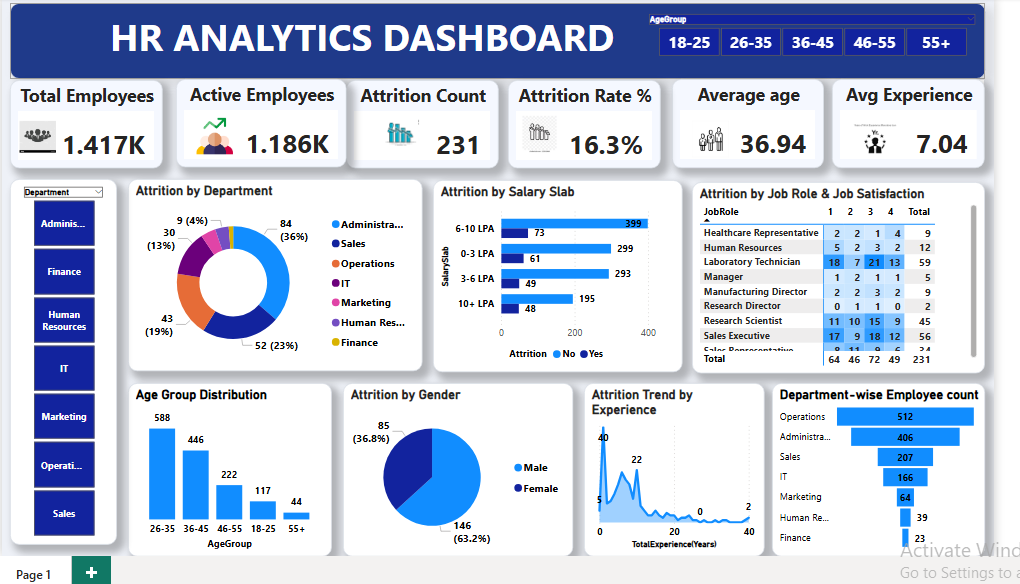

What the dashboard file says about the page in this screenshot:
{"tool":"powerbi","page":{"name":"Page 1","canvas":[1280,720],"ordinal":0},"visuals":[{"type":"textbox","box":[9.9,7.1,1258.6,97.8],"z":0},{"type":"cardVisual","title":"Total Employees","fields":{"Data":["CountNonNull(HR_Analytics-4 (1).EmployeeCount)"]},"box":[10.7,105.5,196.6,114.4],"z":1000},{"type":"cardVisual","title":"Attrition Count","fields":{"Data":["Sum(HR_Analytics-4 (1).Attrition Count)"]},"box":[443.4,105.5,196.6,114.4],"z":2000},{"type":"cardVisual","title":"Average age","fields":{"Data":["Avg(HR_Analytics-4 (1).Age)"]},"box":[864.6,104.9,195.6,114.8],"z":3000},{"type":"cardVisual","title":"Active Employees","fields":{"Data":["CountNonNull(HR_Analytics-4 (1).Attrition)"]},"box":[224.2,105.1,219.6,114.5],"z":4000},{"type":"cardVisual","title":"Avg Experience","fields":{"Data":["Avg(HR_Analytics-4 (1).YearsatCompany)"]},"box":[1071.5,104.9,197,114.8],"z":5000},{"type":"cardVisual","title":"Attrition Rate %","fields":{"Data":["HR_Analytics-4 (1).Attrition Rate%"]},"box":[652.5,105.5,196.6,114.4],"z":6000},{"type":"image","box":[11.3,153.1,69.4,51],"z":7000},{"type":"image","box":[239.5,150.2,69.4,56.7],"z":8000},{"type":"image","box":[476.2,150.2,79.4,56.7],"z":9000},{"type":"image","box":[652,147.4,83.6,56.7],"z":10000},{"type":"image","box":[880.2,153.1,69.4,56.7],"z":11000},{"type":"image","box":[1082.8,153.1,87.9,58.1],"z":12000},{"type":"donutChart","title":"Attrition by Department","fields":{"Category":["HR_Analytics-4 (1).Department"],"Y":["Sum(HR_Analytics-4 (1).Attrition Count)"]},"box":[162.7,234,379.6,248.3],"z":13000},{"type":"clusteredBarChart","title":"Attrition by Salary Slab","fields":{"Y":["CountNonNull(HR_Analytics-4 (1).EmpID)"],"Category":["HR_Analytics-4 (1).SalarySlab"],"Series":["HR_Analytics-4 (1).Attrition"]},"box":[556.5,235.5,322.5,248.3],"z":14000},{"type":"pivotTable","title":"Attrition by Job Role & Job Satisfaction","fields":{"Rows":["HR_Analytics-4 (1).JobRole"],"Values":["Sum(HR_Analytics-4 (1).Attrition Count)"],"Columns":["HR_Analytics-4 (1).JobSatisfaction"]},"box":[890.4,236.9,378.1,246.9],"z":15000},{"type":"columnChart","title":"Age Group Distribution","fields":{"Y":["Sum(HR_Analytics-4 (1).EmployeeCount)"],"Category":["HR_Analytics-4 (1).AgeGroup"]},"box":[162.7,496.6,262.6,224],"z":16000},{"type":"pieChart","title":"Attrition by Gender","fields":{"Category":["HR_Analytics-4 (1).Gender"],"Y":["Sum(HR_Analytics-4 (1).Attrition Count)"]},"box":[439.5,496.6,296.8,224],"z":17000},{"type":"areaChart","title":"Attrition Trend by Experience","fields":{"Category":["HR_Analytics-4 (1).TotalExperience(Years)"],"Y":["Sum(HR_Analytics-4 (1).Attrition Count)"]},"box":[750.6,496.6,232.6,224],"z":18000},{"type":"funnel","title":"Department-wise Employee count","fields":{"Y":["CountNonNull(HR_Analytics-4 (1).EmpID)"],"Category":["HR_Analytics-4 (1).Department"]},"box":[993.2,496.6,275.4,224],"z":19000},{"type":"slicer","title":"Department","fields":{"Values":["HR_Analytics-4 (1).Department"]},"box":[10.7,234.2,137.7,472],"z":20000},{"type":"slicer","title":"AgeGroup","fields":{"Values":["HR_Analytics-4 (1).AgeGroup"]},"box":[821.9,15.7,446.6,62.8],"z":21000}]}

Visuals, with their boxes on the page's 1280x720 design canvas (x1, y1, x2, y2). These are canvas units, not pixel positions in the 1020x584 screenshot, which may show the page scaled, cropped or inside an application window:
textbox: x1=10 y1=7 x2=1268 y2=105
"Total Employees" cardVisual: x1=11 y1=106 x2=207 y2=220
"Attrition Count" cardVisual: x1=443 y1=106 x2=640 y2=220
"Average age" cardVisual: x1=865 y1=105 x2=1060 y2=220
"Active Employees" cardVisual: x1=224 y1=105 x2=444 y2=220
"Avg Experience" cardVisual: x1=1072 y1=105 x2=1268 y2=220
"Attrition Rate %" cardVisual: x1=652 y1=106 x2=849 y2=220
image: x1=11 y1=153 x2=81 y2=204
image: x1=240 y1=150 x2=309 y2=207
image: x1=476 y1=150 x2=556 y2=207
image: x1=652 y1=147 x2=736 y2=204
image: x1=880 y1=153 x2=950 y2=210
image: x1=1083 y1=153 x2=1171 y2=211
"Attrition by Department" donutChart: x1=163 y1=234 x2=542 y2=482
"Attrition by Salary Slab" clusteredBarChart: x1=556 y1=236 x2=879 y2=484
"Attrition by Job Role & Job Satisfaction" pivotTable: x1=890 y1=237 x2=1268 y2=484
"Age Group Distribution" columnChart: x1=163 y1=497 x2=425 y2=721
"Attrition by Gender" pieChart: x1=440 y1=497 x2=736 y2=721
"Attrition Trend by Experience" areaChart: x1=751 y1=497 x2=983 y2=721
"Department-wise Employee count" funnel: x1=993 y1=497 x2=1269 y2=721
"Department" slicer: x1=11 y1=234 x2=148 y2=706
"AgeGroup" slicer: x1=822 y1=16 x2=1268 y2=78
